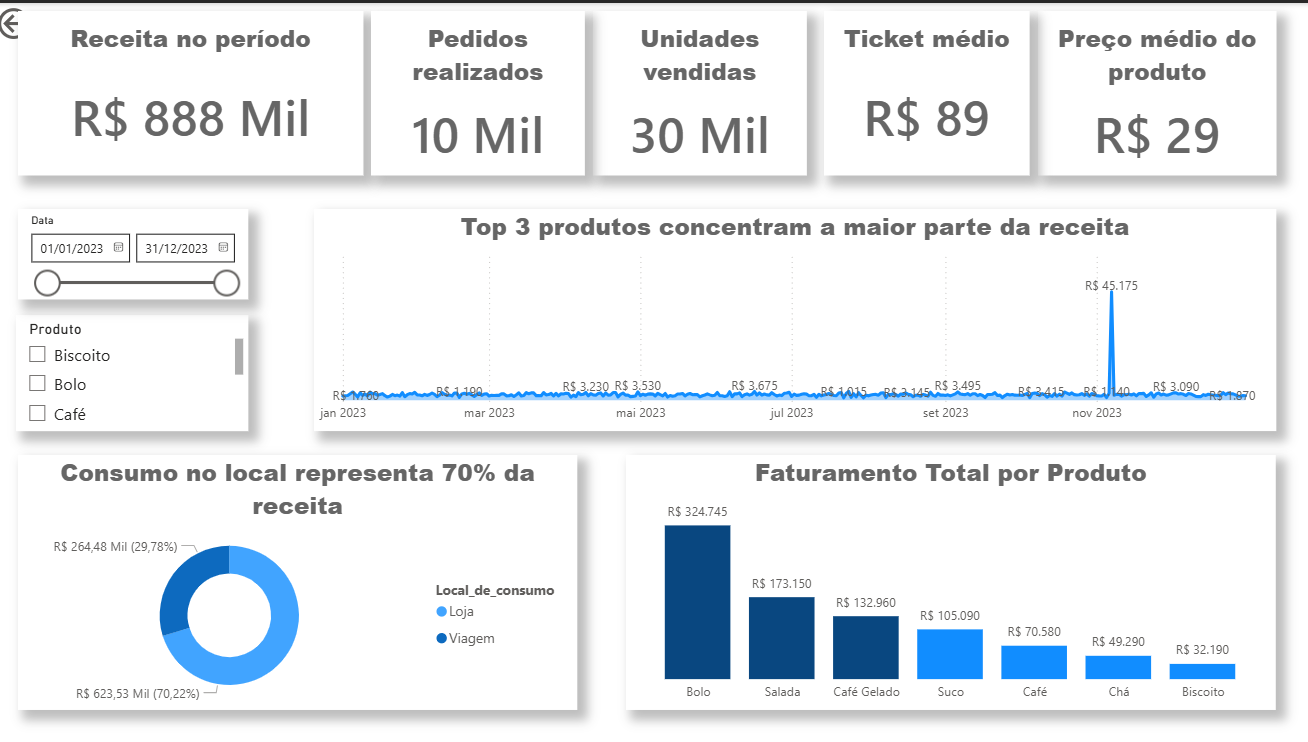

What the dashboard file says about the page in this screenshot:
{"tool":"powerbi","page":{"name":"VENDAS POR PRODUTOS","canvas":[1280,720],"ordinal":0},"visuals":[{"type":"actionButton","box":[0,0,100,40],"z":0},{"type":"cardVisual","title":"Receita no período","fields":{"Data":["dados_cafeteria.Faturamento Total"]},"box":[24,8,336,160],"z":1000},{"type":"cardVisual","title":"Preço médio do produto","fields":{"Data":["dados_cafeteria.Preço Médio por Item"]},"box":[1016,8,232,160],"z":2000},{"type":"cardVisual","title":"Unidades vendidas","fields":{"Data":["dados_cafeteria.Quantidade Vendida"]},"box":[584,8,208,160],"z":3000},{"type":"cardVisual","title":"Ticket médio","fields":{"Data":["dados_cafeteria.Ticket Médio"]},"box":[808,8,200,160],"z":4000},{"type":"cardVisual","title":"Pedidos realizados","fields":{"Data":["dados_cafeteria.Total de Vendas"]},"box":[368,8,208,160],"z":5000},{"type":"areaChart","title":"Top 3 produtos concentram a maior parte da receita","fields":{"Category":["dados_cafeteria.Data"],"Y":["dados_cafeteria.Faturamento Total"]},"box":[312,200,936,216],"z":6000},{"type":"clusteredColumnChart","title":"Faturamento Total por Produto","fields":{"Category":["dados_cafeteria.Produto"],"Y":["dados_cafeteria.Faturamento Total"]},"box":[616,440,632,248],"z":7000},{"type":"donutChart","title":"Consumo no local representa 70% da receita","fields":{"Category":["dados_cafeteria.Local_de_consumo"],"Y":["dados_cafeteria.Faturamento Total"]},"box":[24,440,544,248],"z":8000},{"type":"slicer","fields":{"Values":["dados_cafeteria.Produto"]},"box":[22.5,303.9,226.1,112.5],"z":9000},{"type":"slicer","fields":{"Values":["dados_cafeteria.Data"]},"box":[24,200,224,88],"z":10000}]}

Visuals, with their boxes in screenshot pixels (x1, y1, x2, y2), scaled from the page's 1280x720 canvas onto the 1308x742 screenshot:
actionButton: 0 0 102 41
"Receita no período" cardVisual: 25 8 368 173
"Preço médio do produto" cardVisual: 1038 8 1275 173
"Unidades vendidas" cardVisual: 597 8 809 173
"Ticket médio" cardVisual: 826 8 1030 173
"Pedidos realizados" cardVisual: 376 8 589 173
"Top 3 produtos concentram a maior parte da receita" areaChart: 319 206 1275 429
"Faturamento Total por Produto" clusteredColumnChart: 629 453 1275 709
"Consumo no local representa 70% da receita" donutChart: 25 453 580 709
slicer - dados_cafeteria.Produto: 23 313 254 429
slicer - dados_cafeteria.Data: 25 206 253 297
